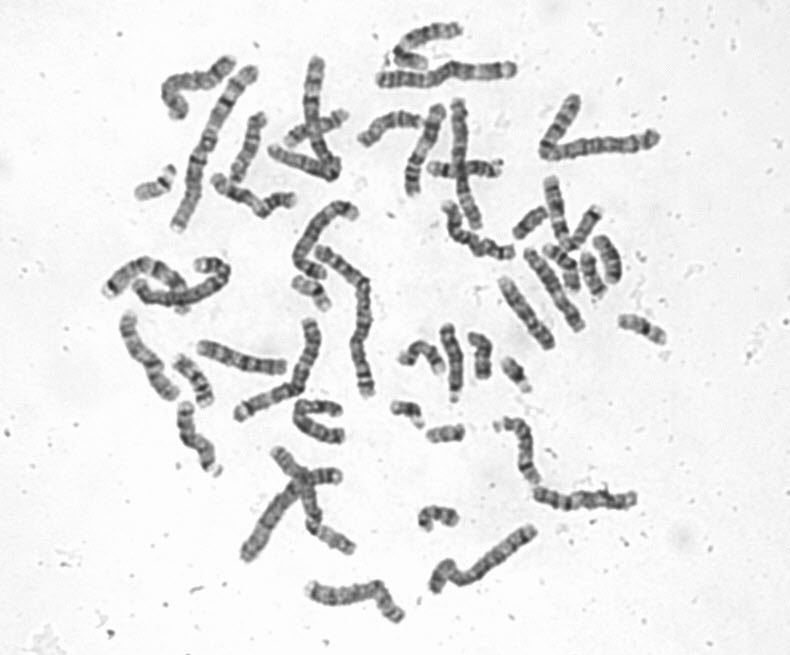chromosomes: (167, 63, 263, 237), (311, 243, 381, 402), (238, 466, 346, 566), (267, 445, 360, 557), (533, 87, 665, 165), (266, 56, 343, 188), (231, 317, 323, 427), (418, 521, 545, 597), (521, 246, 591, 338), (97, 253, 196, 318), (116, 308, 183, 403), (157, 53, 241, 126), (444, 92, 488, 231), (289, 196, 363, 277), (307, 572, 407, 629), (131, 252, 236, 306), (436, 199, 519, 266), (493, 272, 559, 354), (537, 176, 605, 255), (401, 101, 449, 205), (375, 57, 520, 90), (209, 171, 300, 219), (176, 398, 229, 479), (489, 415, 546, 488), (389, 20, 467, 71), (225, 107, 272, 190), (192, 340, 291, 379), (278, 106, 356, 149), (530, 485, 642, 514), (356, 109, 427, 154), (290, 399, 350, 446), (437, 319, 468, 406), (169, 358, 218, 410), (129, 161, 180, 207), (425, 154, 505, 183), (541, 242, 581, 298), (285, 273, 336, 315), (614, 312, 670, 350), (396, 340, 451, 378), (410, 502, 463, 540), (588, 234, 625, 287), (499, 352, 537, 400), (503, 204, 551, 241), (464, 331, 497, 381), (582, 250, 611, 306), (387, 400, 429, 433), (422, 423, 468, 448)
